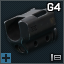Glock 9x19 Strike Industries G4 slide compensator: (0, 0, 64, 64)
